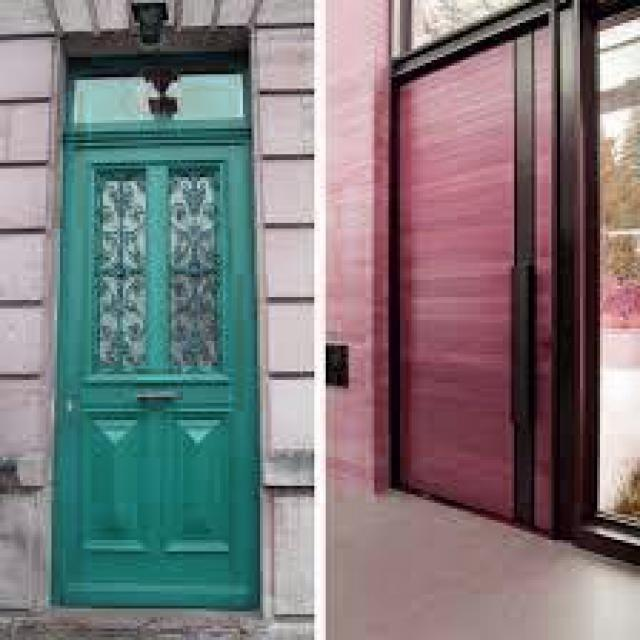door: (29, 7, 284, 627), (375, 4, 567, 561)
